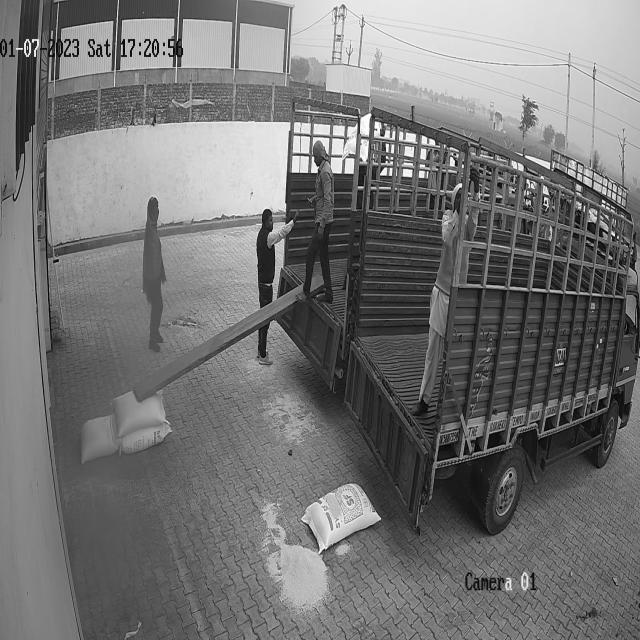sack: (302, 482, 381, 553), (110, 391, 165, 436), (80, 412, 118, 463), (120, 422, 172, 454)
